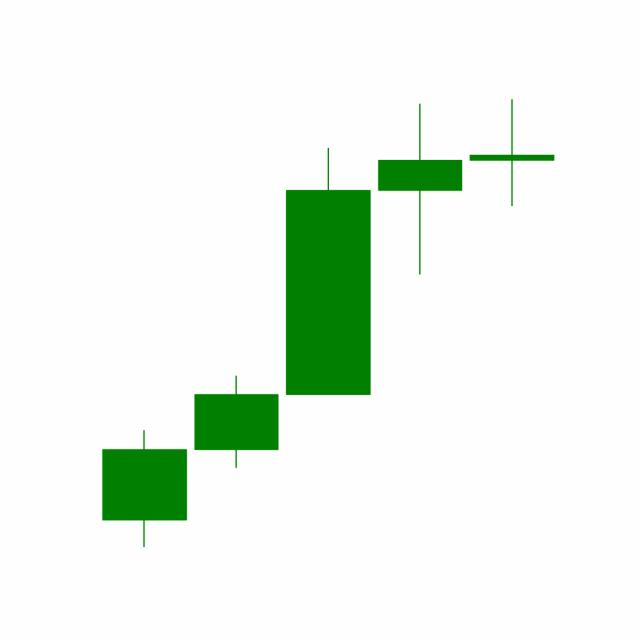Spinning Top: (464, 97, 558, 207)
